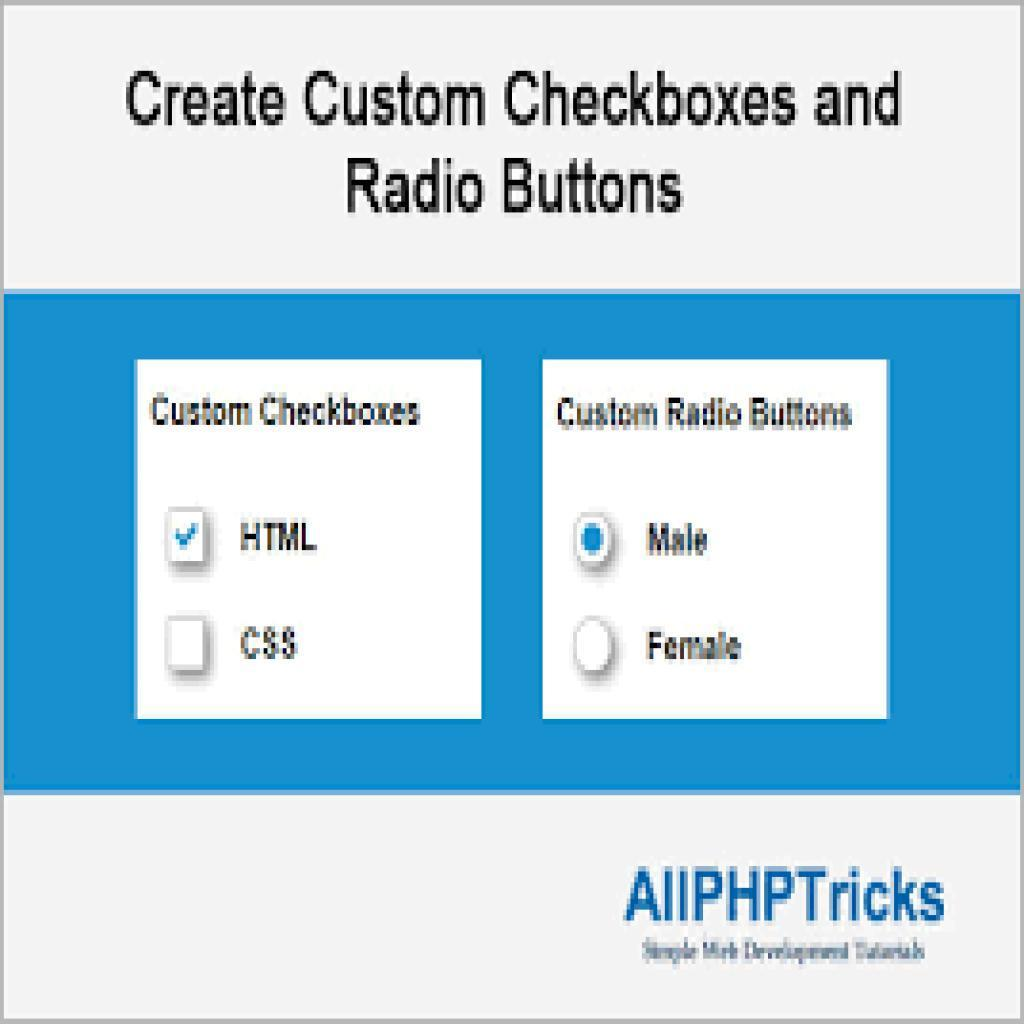checkbox: (164, 508, 212, 565), (166, 619, 211, 679)
radio: (571, 617, 622, 682), (573, 512, 615, 575)
